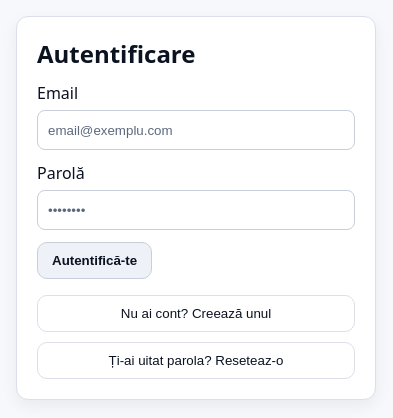
AuthPage › poate schimba în modul signUp
This screenshot has width=393, height=418.
Click the button "Nu ai cont? Creează unul": click(196, 314) [37, 295, 355, 332]
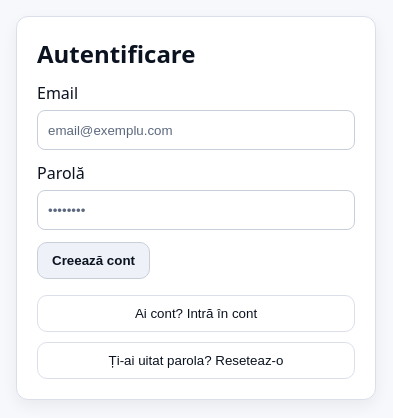
Now the button "Creează cont" is shown, box [37, 242, 150, 279]
Now the button "Ai cont? Intră în cont" is shown, box [37, 295, 355, 332]
